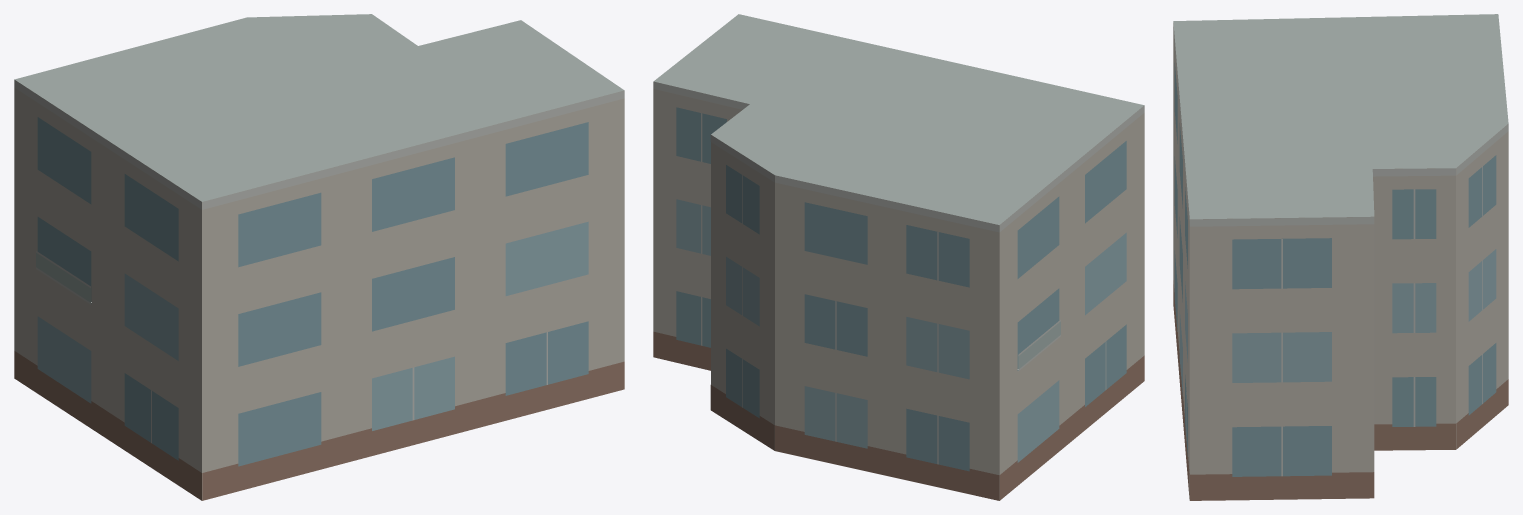
The model's file is survey-upis-32948436.glb.
The picture shows the model from 3 angles, left to right: view 1: azimuth 30°, elevation 25°; view 2: azimuth 150°, elevation 25°; view 3: azimuth 270°, elevation 25°; orthographic projection. The views are drawn at different scales.
Parts seen in each view (by area): view 1: survey-upis-32948436.tmp; view 2: survey-upis-32948436.tmp; view 3: survey-upis-32948436.tmp.
Boxes of the visible parts, x1=… form: survey-upis-32948436.tmp: x1=14, y1=14, x2=624, y2=500; survey-upis-32948436.tmp: x1=653, y1=14, x2=1144, y2=500; survey-upis-32948436.tmp: x1=1173, y1=14, x2=1508, y2=500.
Size of the model in its own units: 14.32 by 9.15 by 9.89.
